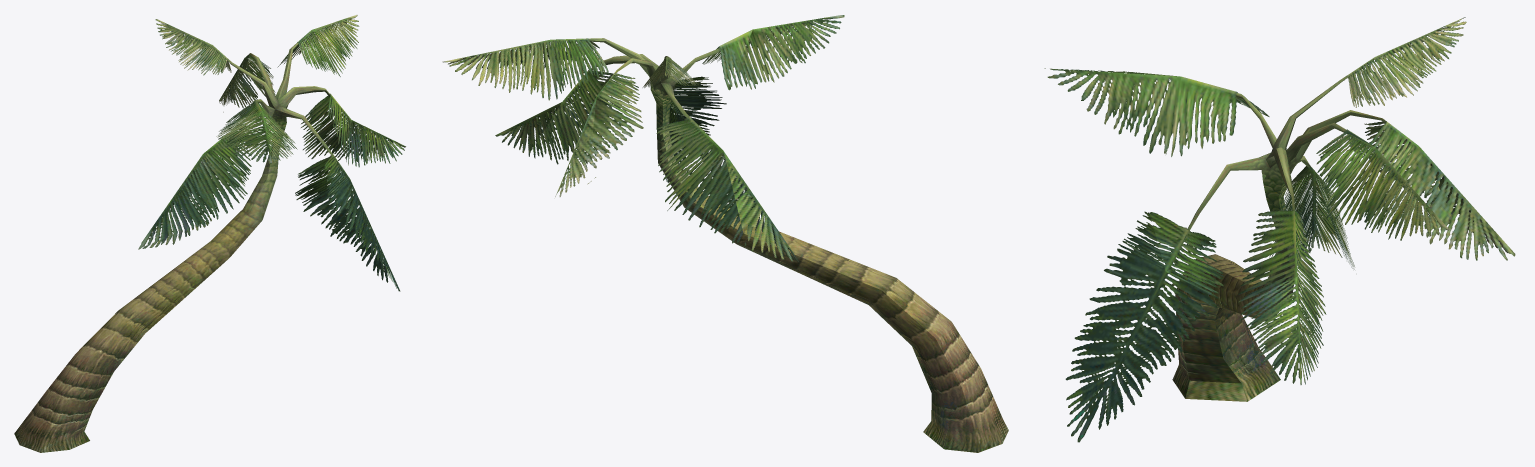
The model's file is 5010_Item_yeshu_01.FBX.
3 renders of one model, left to right at view 1: azimuth 30°, elevation 25°; view 2: azimuth 150°, elevation 25°; view 3: azimuth 270°, elevation 25°, orthographic. The views are drawn at different scales.
Parts seen in each view (by area): view 1: 5010_Item_yeshu_01; view 2: 5010_Item_yeshu_01; view 3: 5010_Item_yeshu_01.
Boxes of the visible parts, x1,y1,x2,y2 form: 5010_Item_yeshu_01: [14, 15, 405, 452]; 5010_Item_yeshu_01: [442, 15, 1008, 452]; 5010_Item_yeshu_01: [1044, 17, 1515, 442].
Size of the model in its own units: 1025 by 757 by 660.
